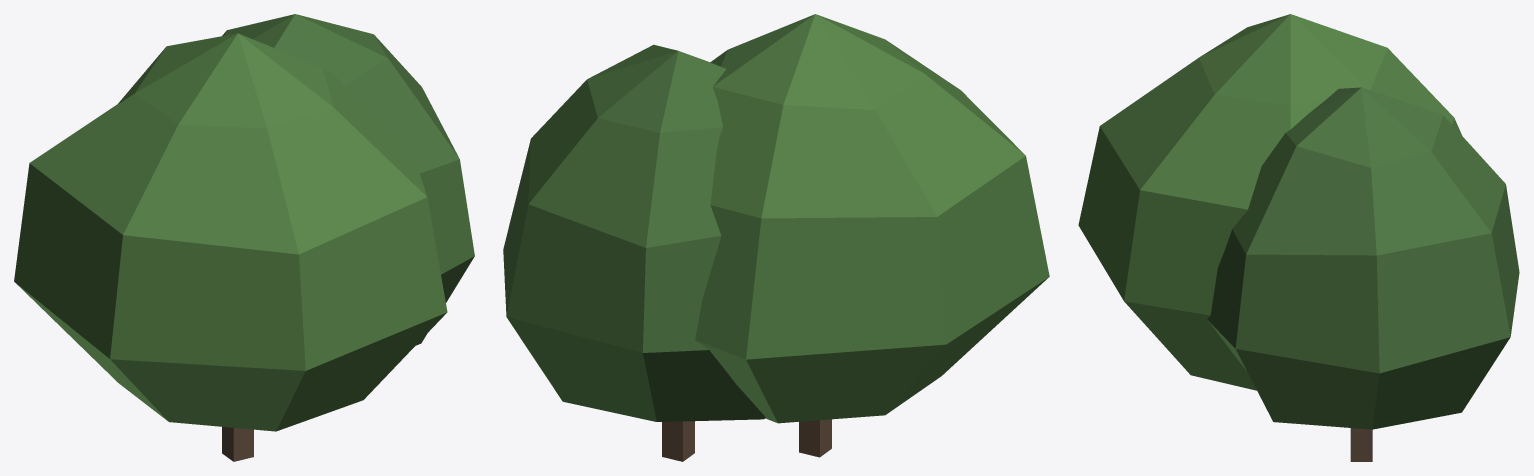
The model's file is copa_3.glb.
3 views of the same model, side by side, from view 1: azimuth 30°, elevation 25°; view 2: azimuth 150°, elevation 25°; view 3: azimuth 270°, elevation 25° (orthographic). The views are drawn at different scales.
Visible parts, largest first — view 1: a, b, tr; view 2: a, b, tr; view 3: b, a, tr.
Part boxes in pixels (x1,y1,x2,y2): a: [14, 33, 447, 431]; b: [222, 14, 474, 345]; tr: [222, 427, 253, 461]; a: [695, 14, 1049, 423]; b: [503, 44, 765, 421]; tr: [662, 419, 831, 461]; b: [1207, 87, 1519, 429]; a: [1078, 14, 1462, 390]; tr: [1350, 428, 1372, 461].
Bounding box in the file's own units: 10.72 × 10 × 10.01.
